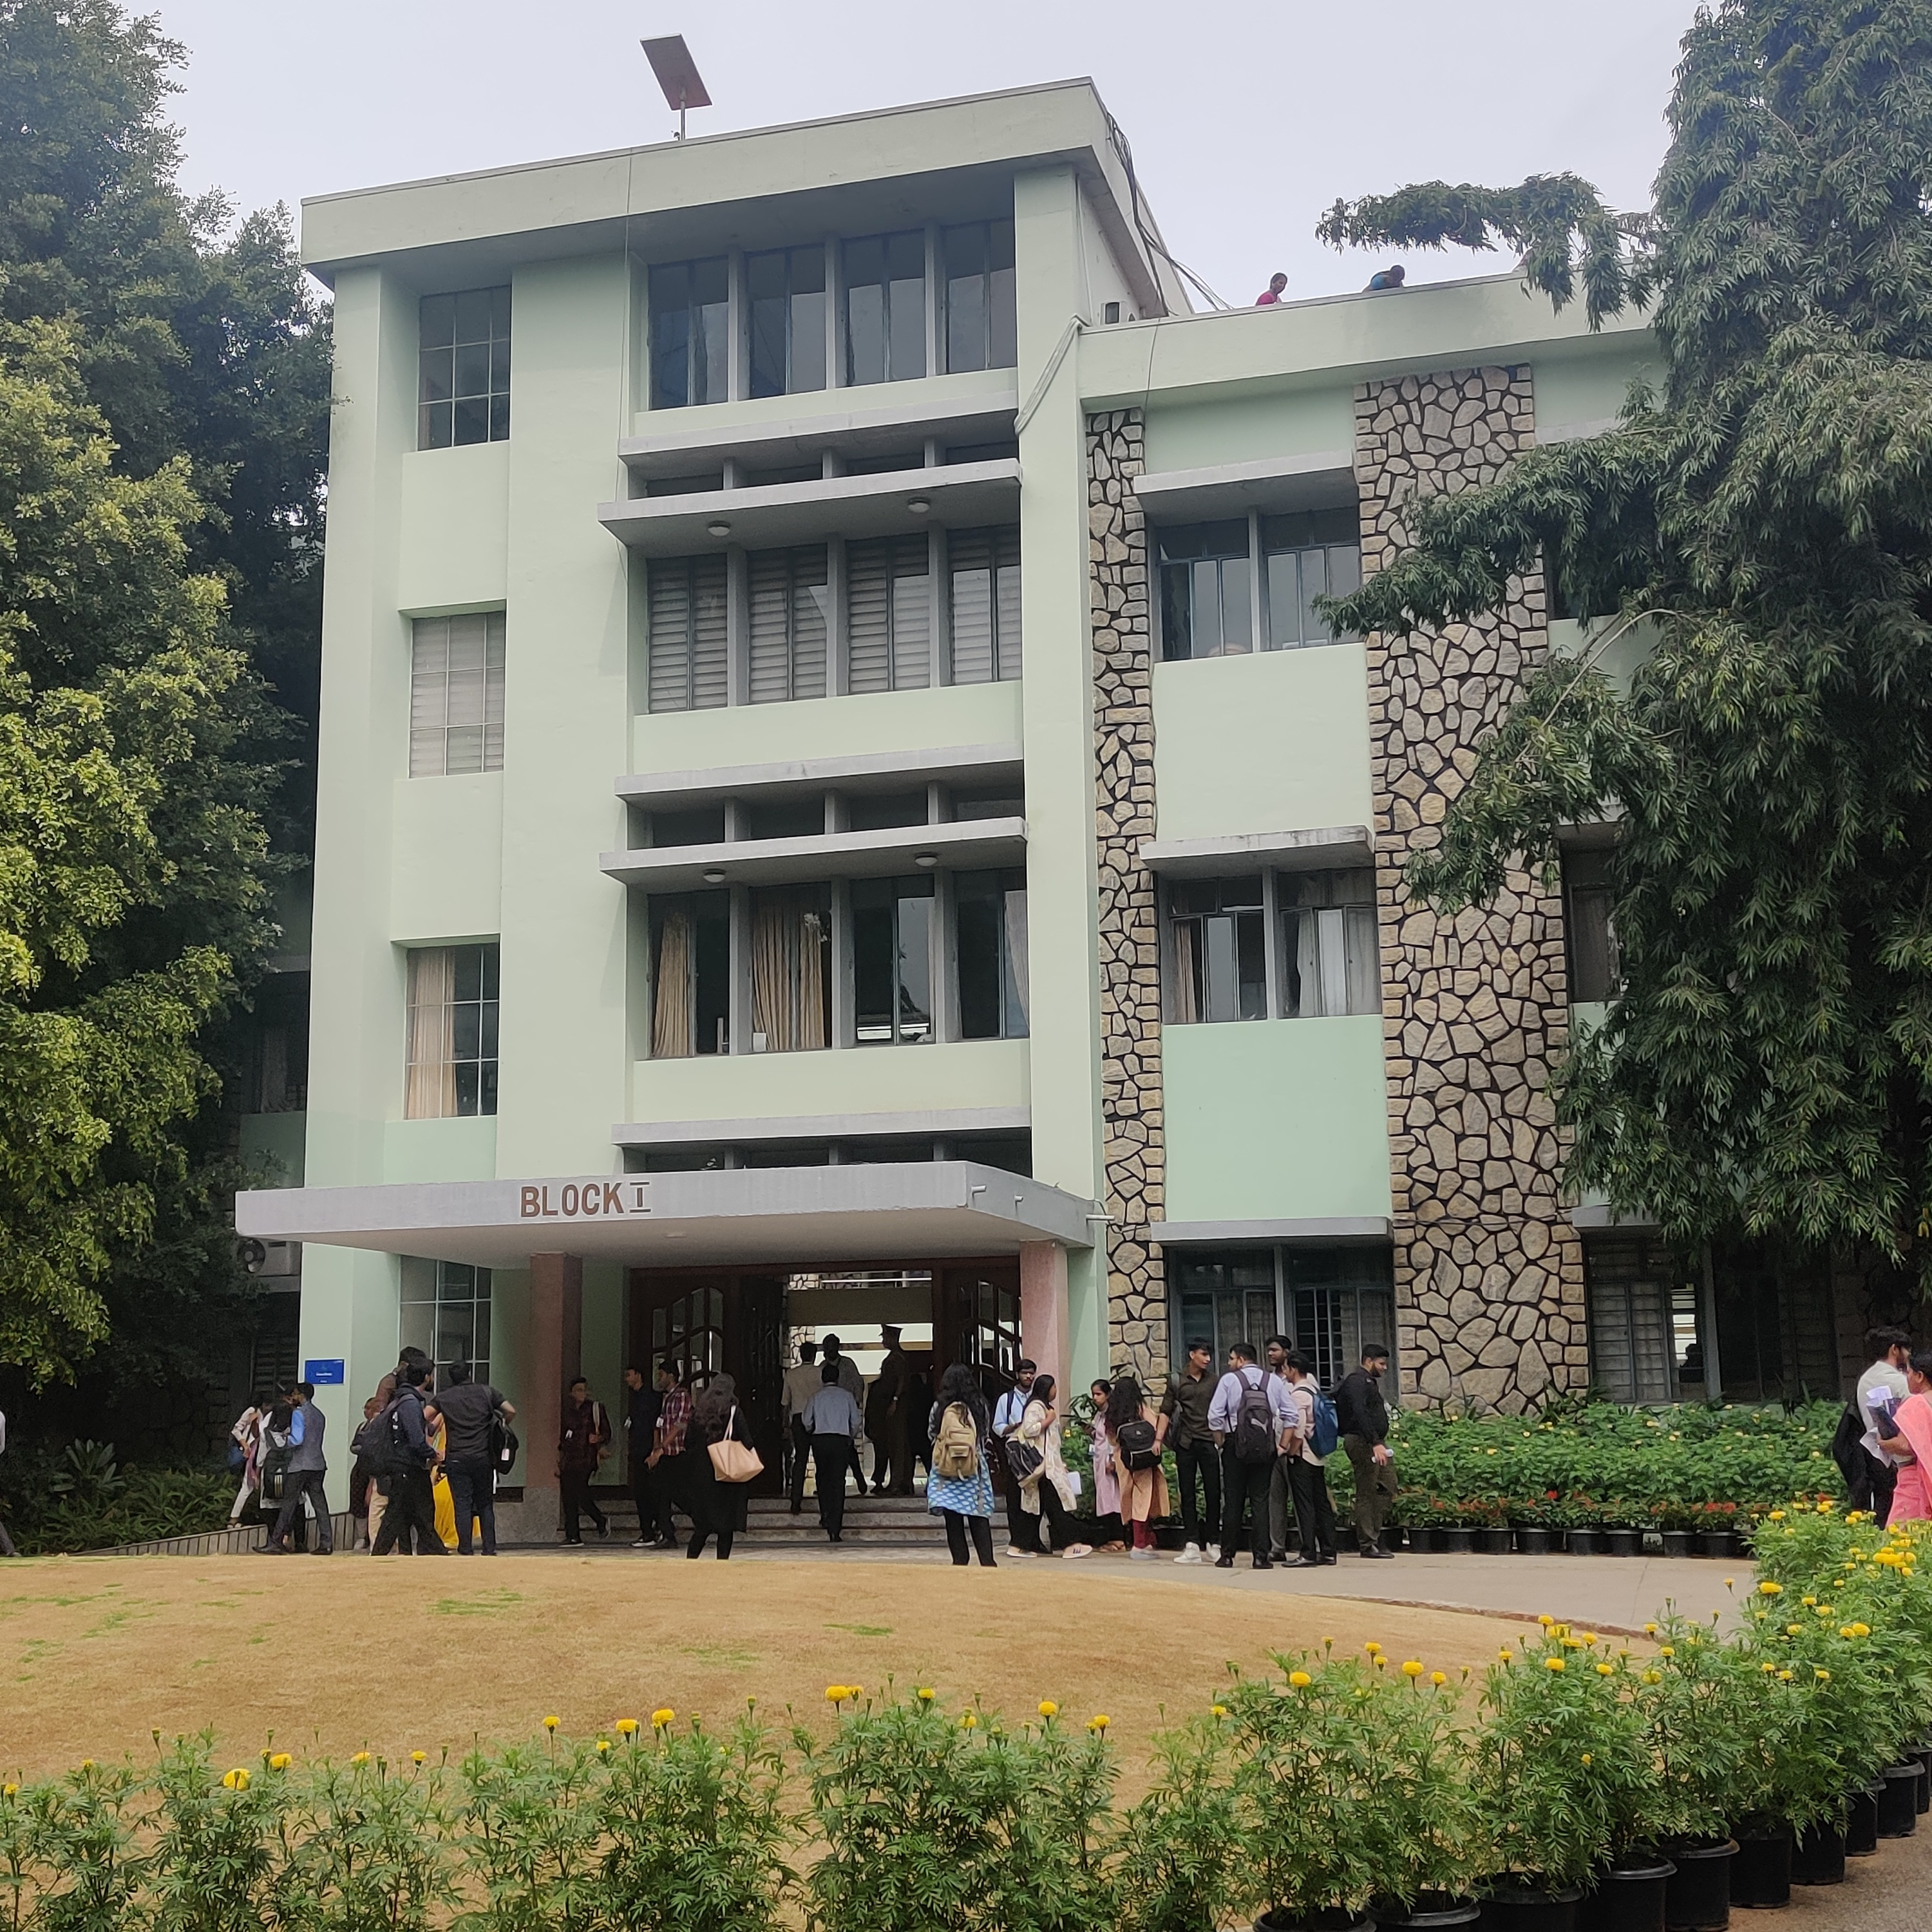Block 1: (301, 120, 1594, 1339)
